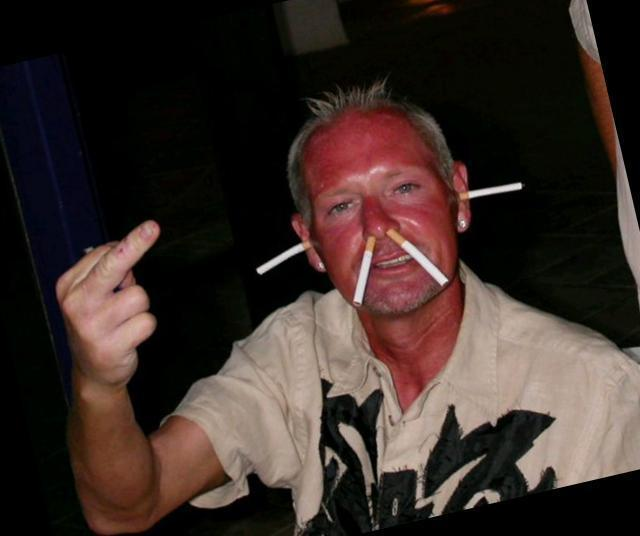Drunk: (304, 126, 455, 310)
